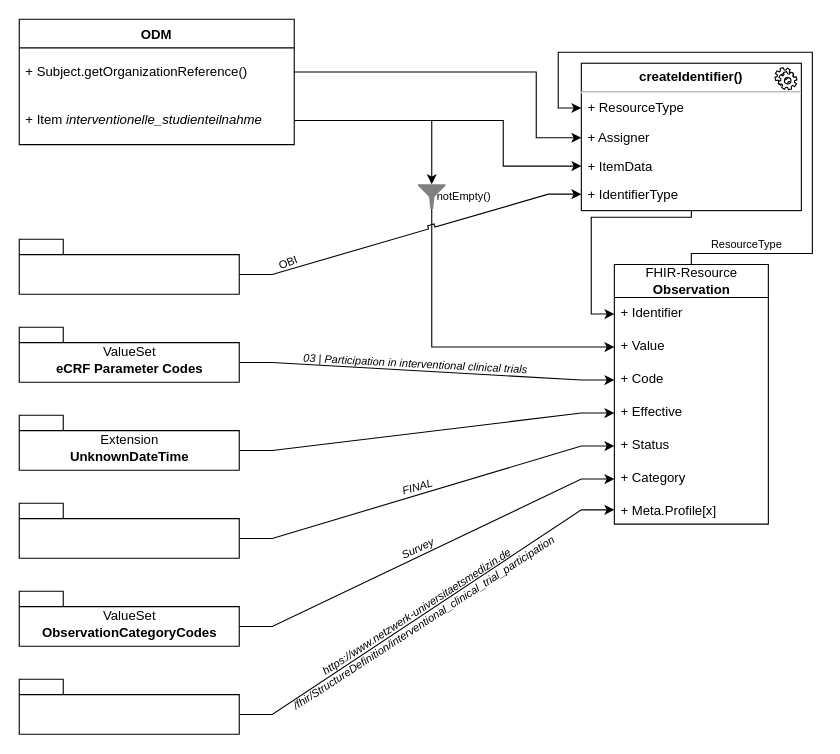
Some shapes in this 840 by 754 pixel diagram are drawn without their labels. Here are the shapes that lost their labels. From the top down, the centre of each, then its label:
pixel 128 266: ValueSet IdentifierTypeCodes
pixel 128 530: ValueSet ObservationStatus
pixel 128 706: GECCO Profiles
